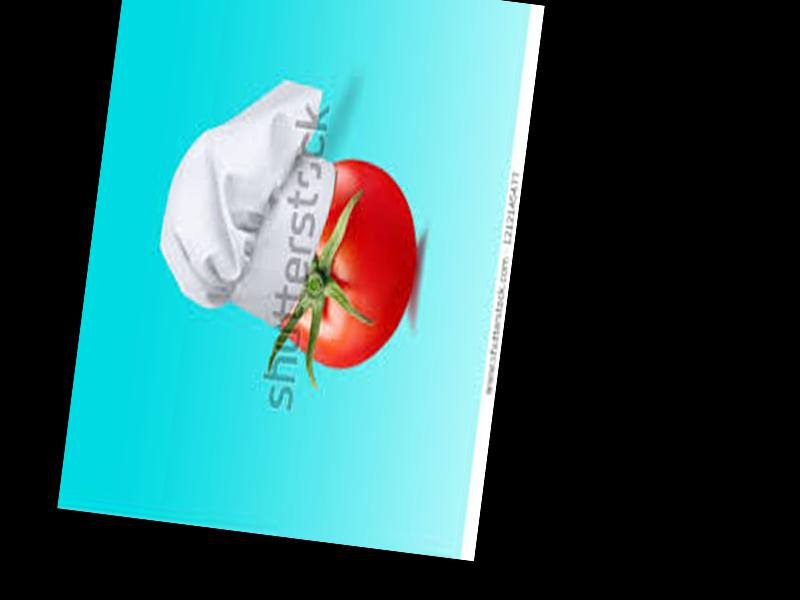Tomato: (275, 153, 425, 372)
